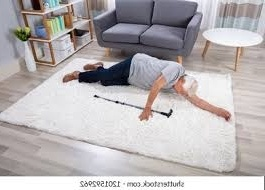fall: (53, 51, 233, 114)
